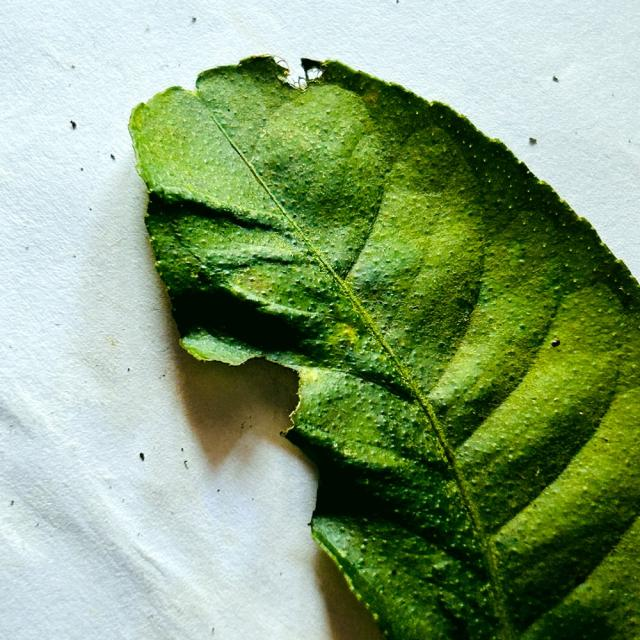Deficiency Leaf: (187, 352, 320, 529), (273, 55, 311, 88)
Lemon: (129, 55, 639, 639)
